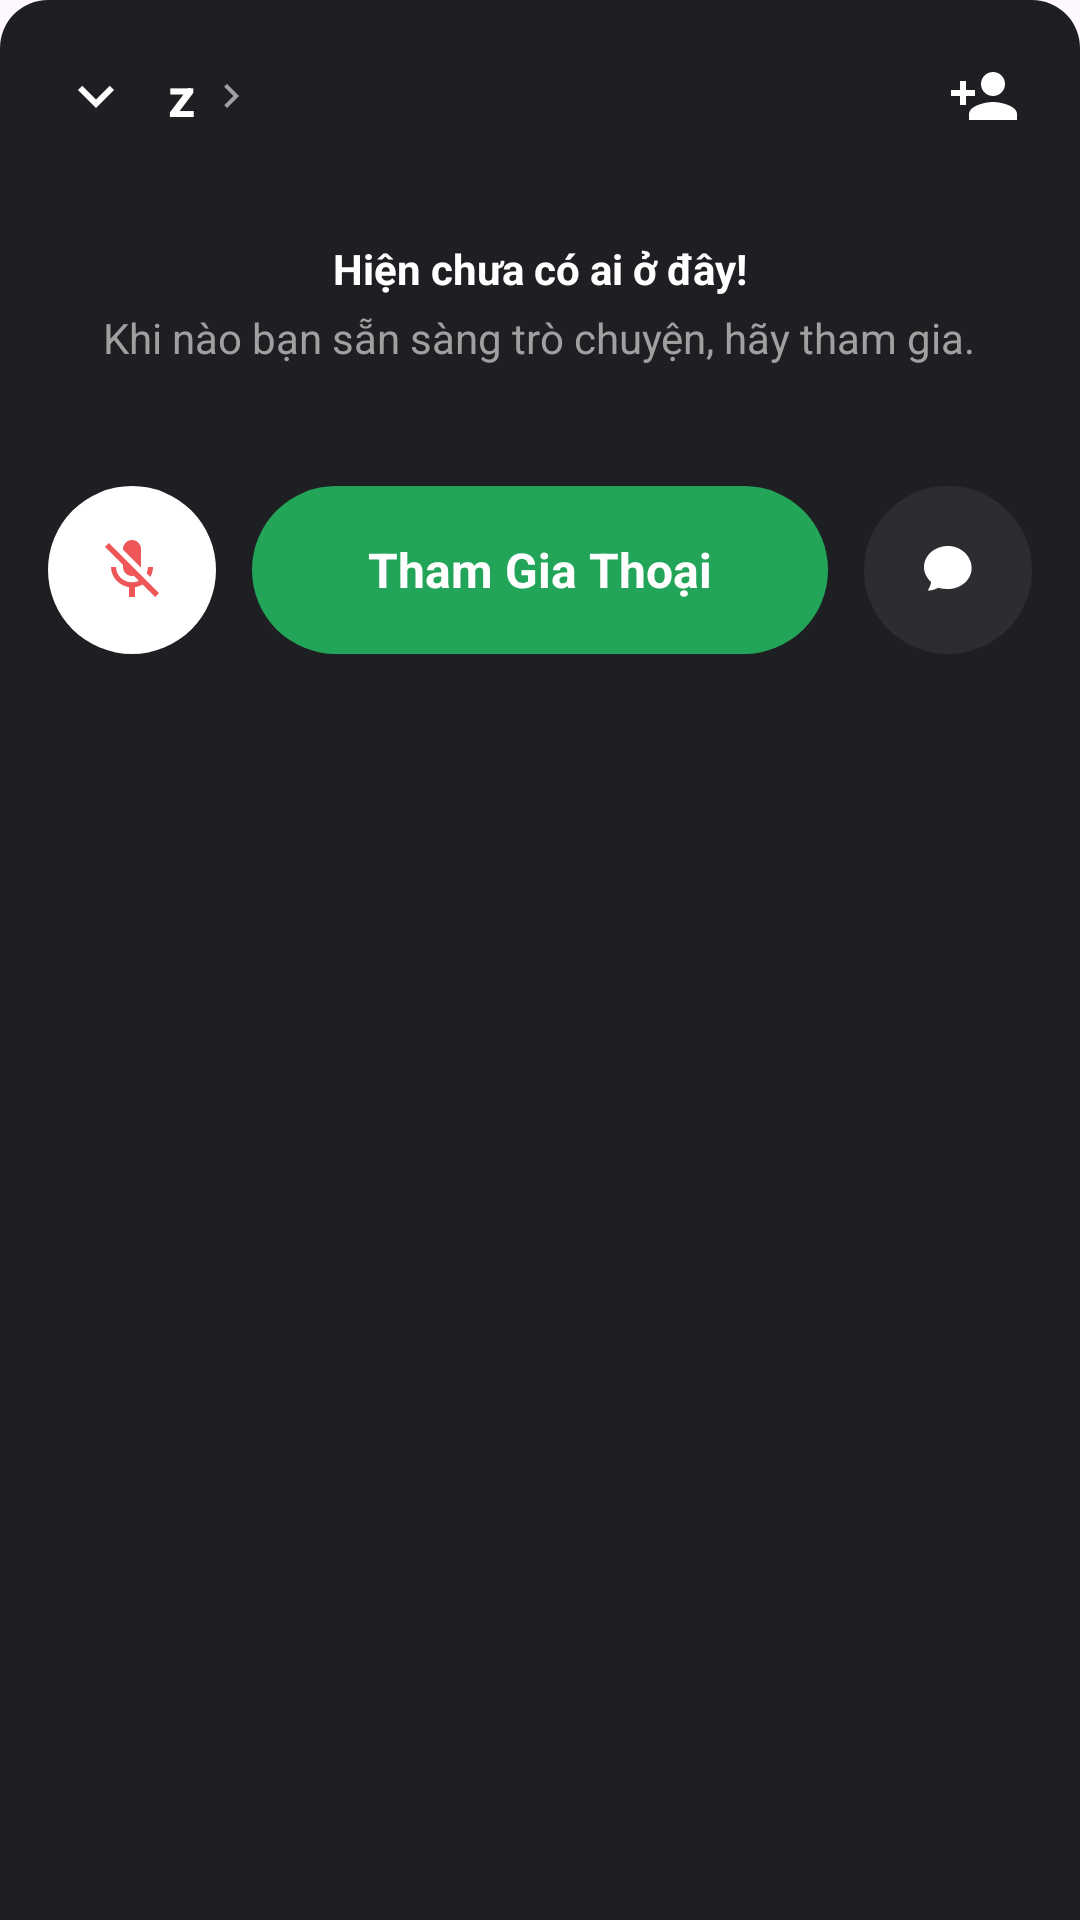

Named icons in this screenshot (1080x1920) and their centers, point (x, y):
chat bubble: point (948, 568)
mic off: point (132, 570)
person add: point (984, 96)
